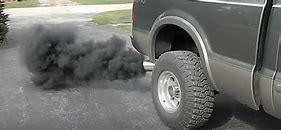smoke: (17, 22, 145, 90)
